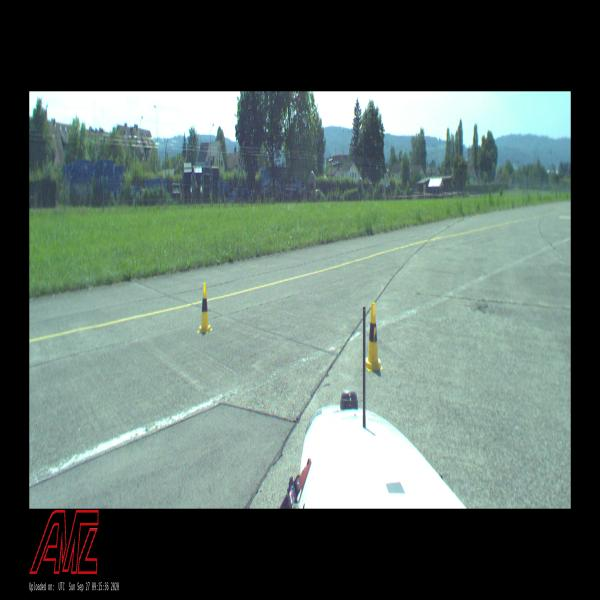yellow_cone: (366, 303, 382, 371), (197, 283, 213, 334)
